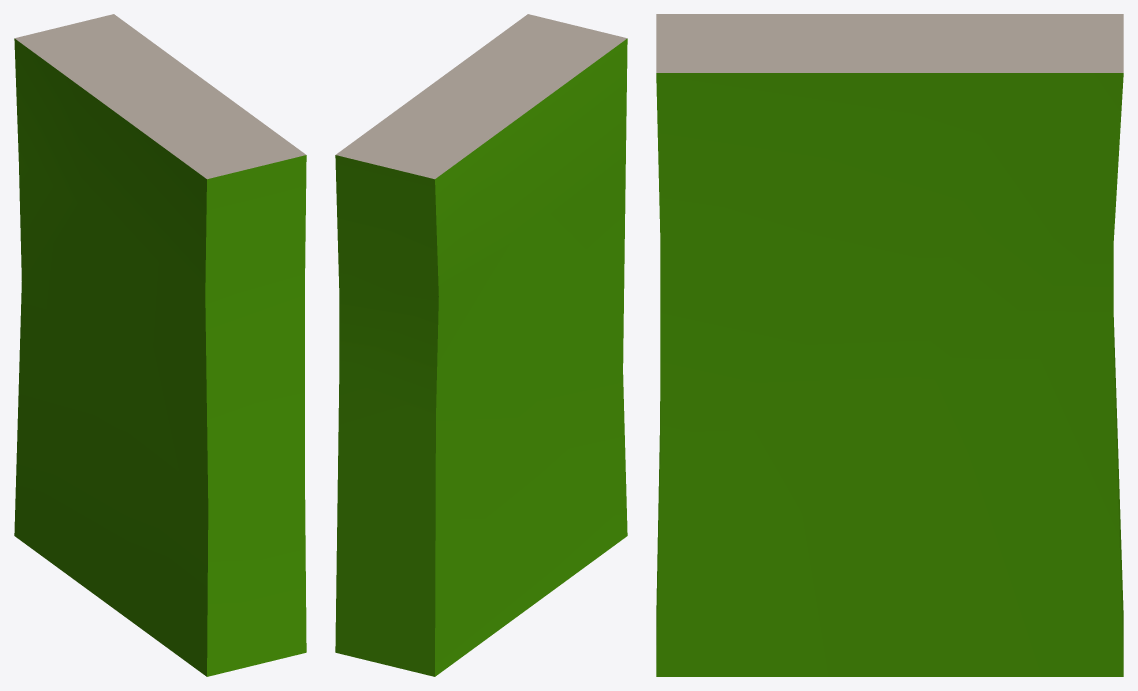
Rendered from Cereal_Box.fbx.
3 views of the same model, side by side, from view 1: azimuth 30°, elevation 25°; view 2: azimuth 150°, elevation 25°; view 3: azimuth 270°, elevation 25° (orthographic). The views are drawn at different scales.
Visible parts, largest first — view 1: Cereal_Box; view 2: Cereal_Box; view 3: Cereal_Box.
Boxes of the visible parts, x1,y1,x2,y2 form: Cereal_Box: [14, 14, 306, 676]; Cereal_Box: [335, 14, 627, 676]; Cereal_Box: [656, 14, 1123, 676].
Size of the model in its own units: 1.69 by 7.6 by 5.33.
